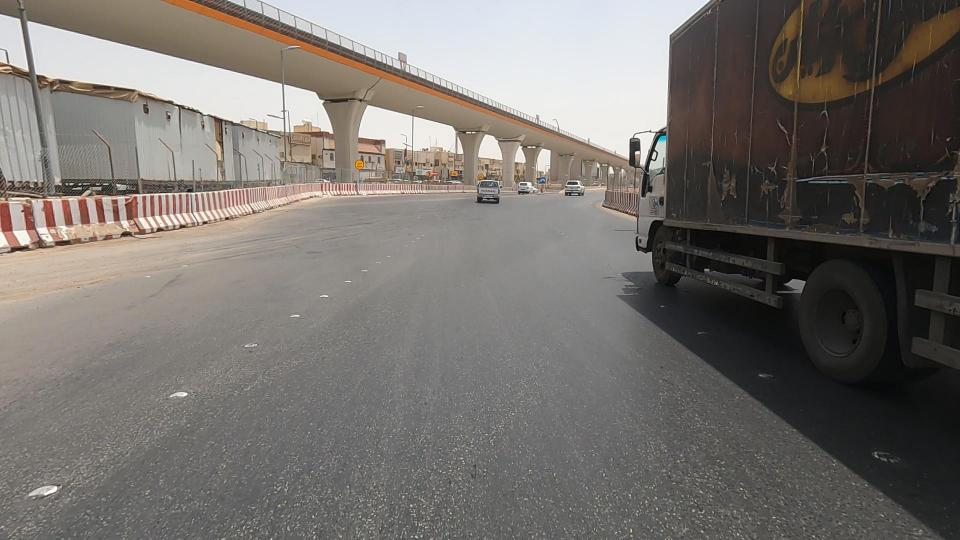CONSTRUCTION_ROAD: (0, 115, 211, 286), (118, 129, 295, 247), (217, 139, 388, 225), (340, 141, 454, 221), (584, 160, 648, 229)
